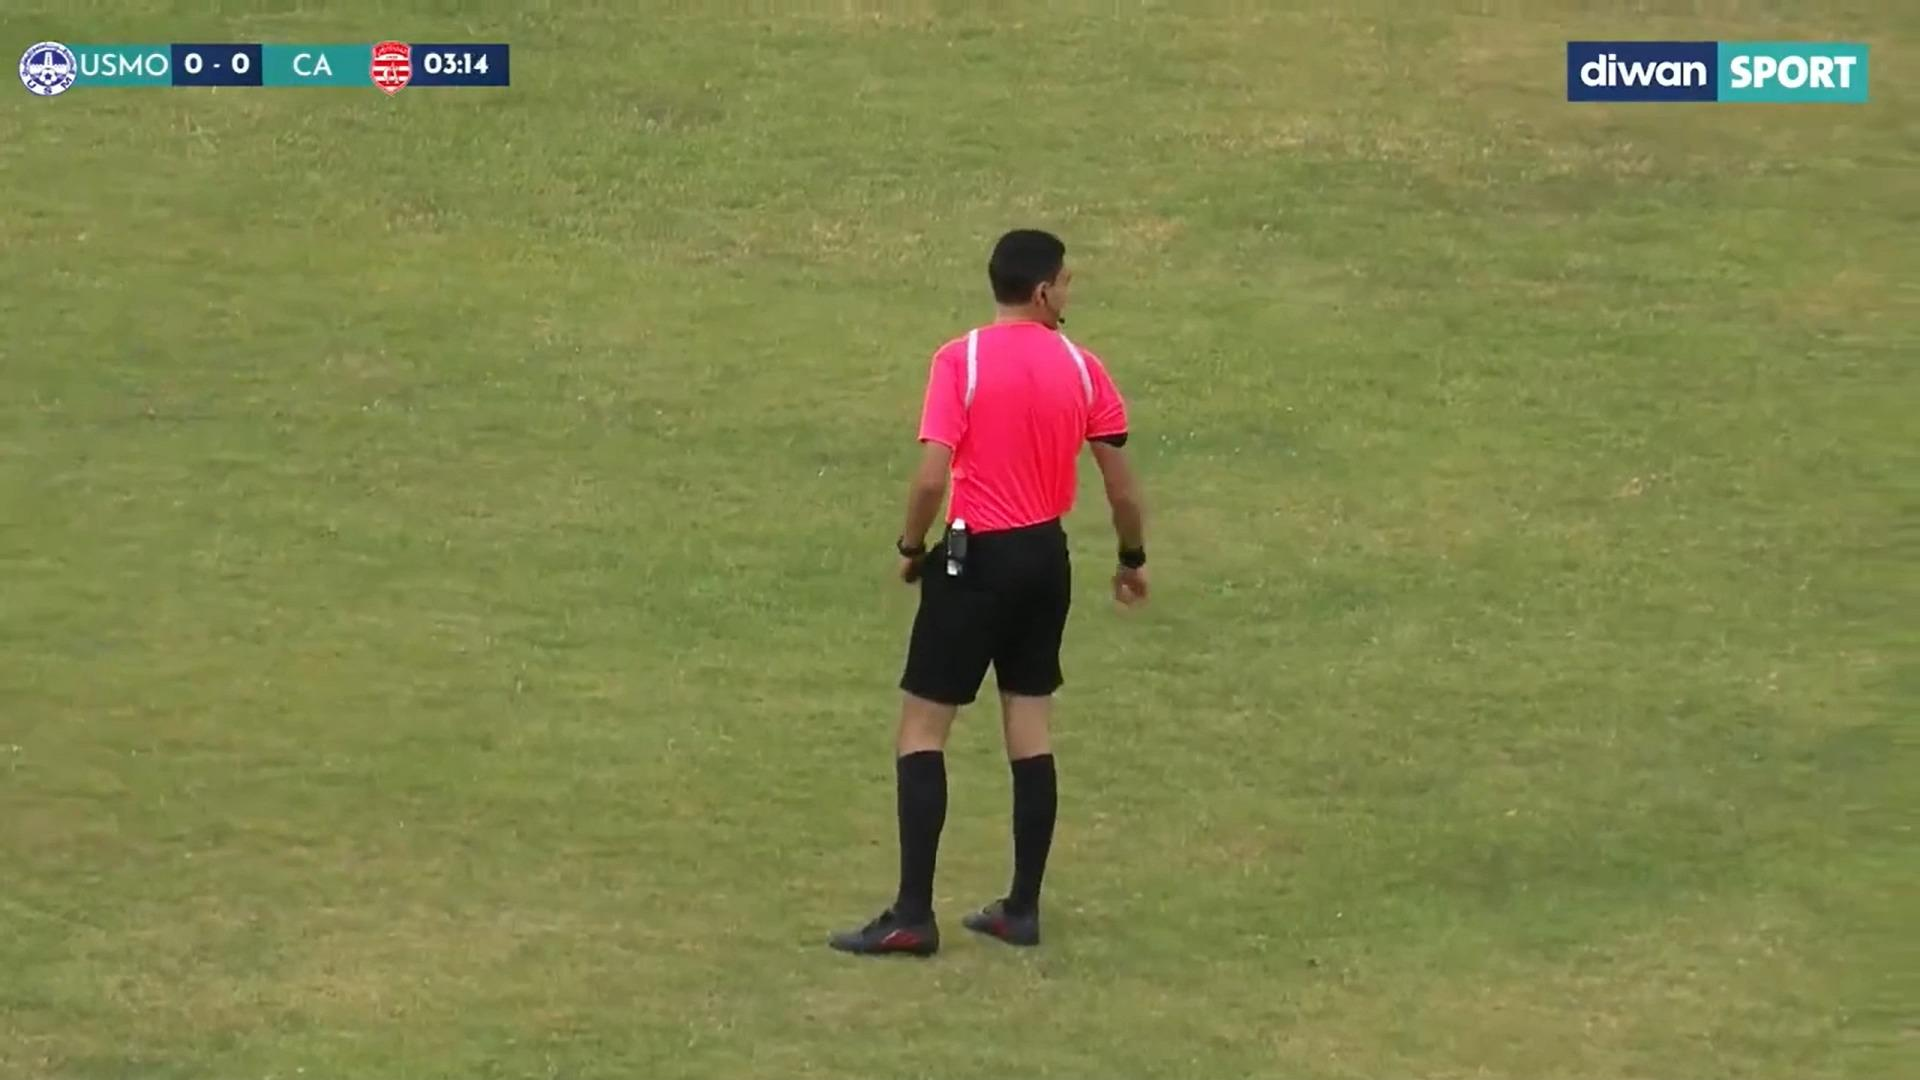referee: (782, 152, 1269, 989)
